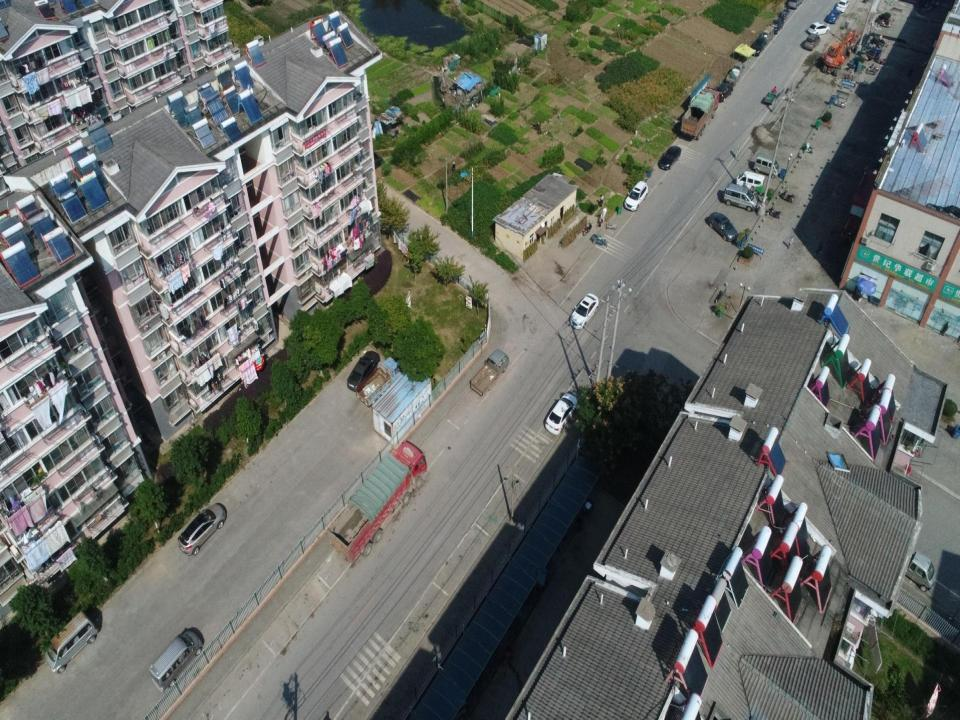car: (177, 502, 227, 556), (545, 393, 578, 435), (347, 350, 380, 392), (570, 292, 599, 330), (709, 211, 738, 242), (624, 180, 648, 212), (658, 145, 681, 170), (749, 35, 766, 56), (807, 22, 830, 36), (770, 16, 785, 35), (825, 9, 840, 23), (835, 0, 850, 12)
truck: (328, 440, 427, 564), (889, 544, 936, 592), (356, 358, 401, 408), (680, 86, 719, 141), (470, 349, 509, 397), (725, 61, 745, 87)
van: (148, 630, 204, 693), (45, 611, 98, 674), (724, 184, 758, 212), (736, 170, 765, 194), (753, 154, 780, 179), (715, 81, 733, 103), (804, 33, 820, 51), (762, 25, 775, 44), (787, 0, 803, 10)
